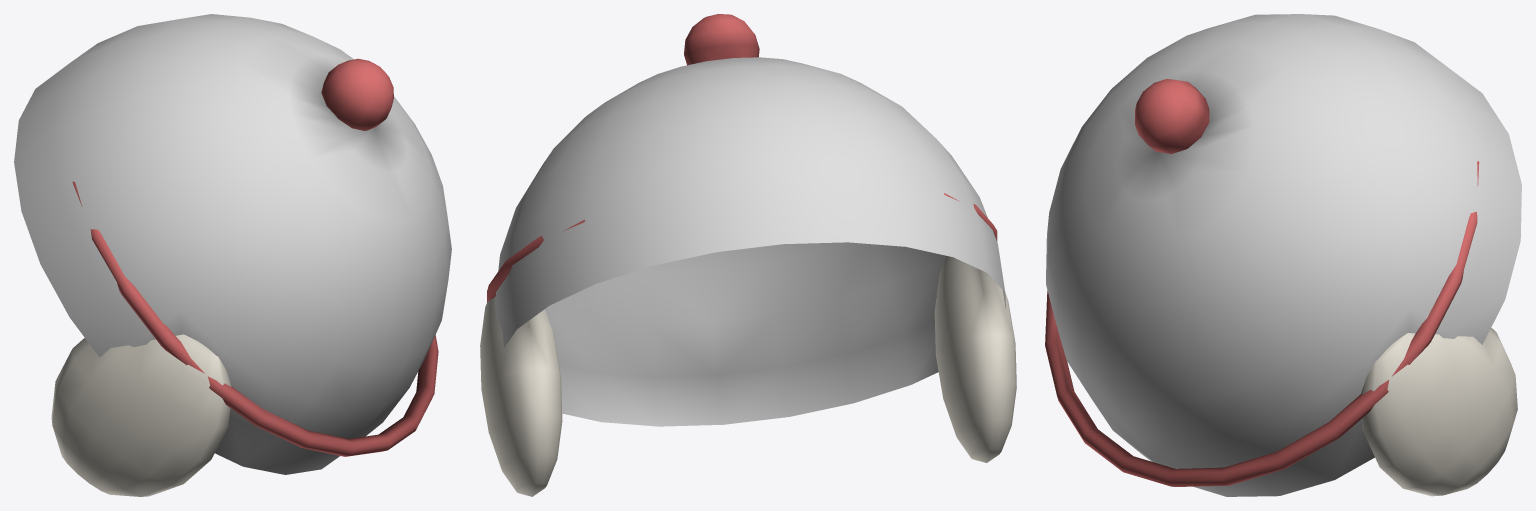
Rendered from flannel_head.fbx.
The picture shows the model from 3 angles, left to right: view 1: azimuth 30°, elevation 25°; view 2: azimuth 150°, elevation 25°; view 3: azimuth 270°, elevation 25°; orthographic projection. The views are drawn at different scales.
Visible parts, largest first — view 1: flannel_head; view 2: flannel_head; view 3: flannel_head.
Boxes of the visible parts, x1=… form: flannel_head: x1=14, y1=14, x2=451, y2=496; flannel_head: x1=480, y1=14, x2=1016, y2=496; flannel_head: x1=1045, y1=14, x2=1521, y2=496.
Size of the model in its own units: 1.22 by 1.09 by 1.16.
